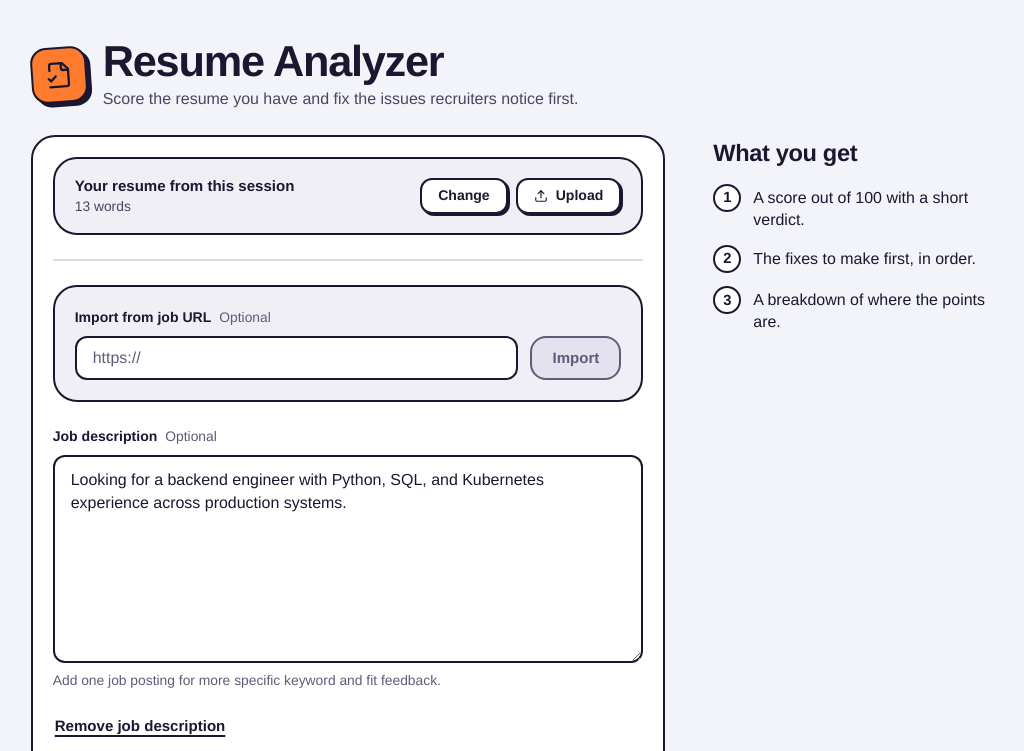
ToolRouteScreen › keeps an existing resume as a compact row until the user chooses to edit it
Expected: the text "Your resume from this session" is shown, [75,176,294,196]
Expected: the field labelled "Resume text" is not shown
Click the button "Change" at {"x": 464, "y": 196}, box [420,178,508,214]
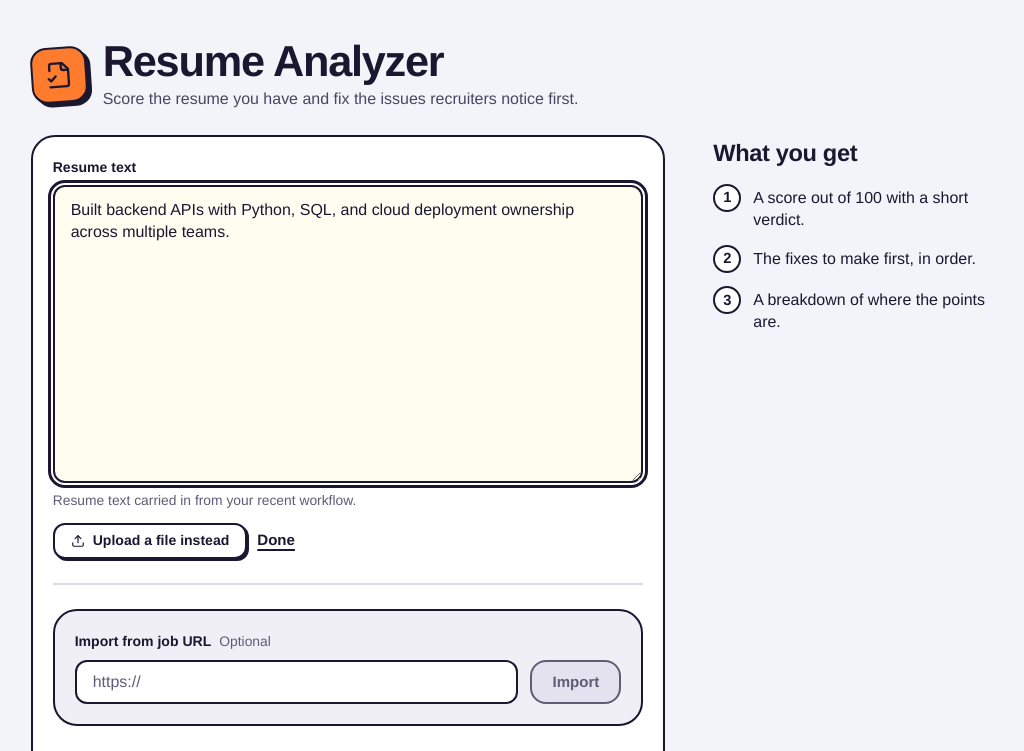
Now the text box labelled "Resume text" is shown, box [53,184,643,482]
